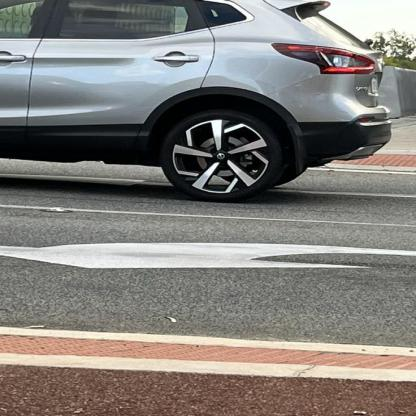Tire: (157, 109, 284, 203)
